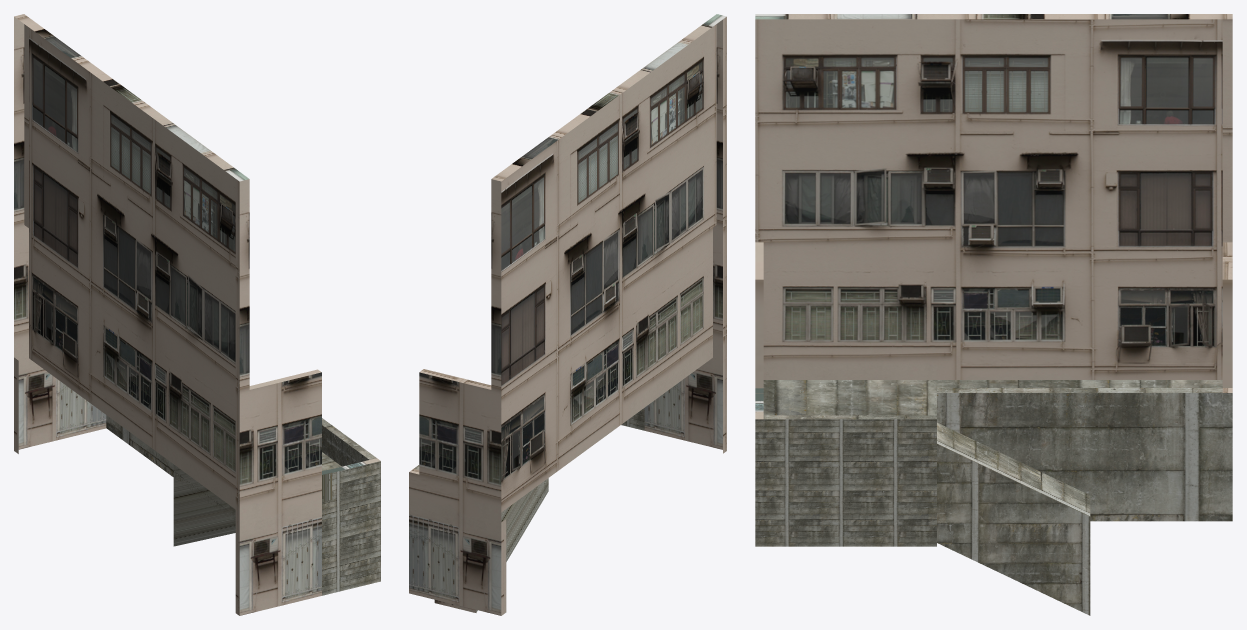
The model's file is BigBuildingNew.fbx.
3 renders of one model, left to right at view 1: azimuth 30°, elevation 25°; view 2: azimuth 150°, elevation 25°; view 3: azimuth 270°, elevation 25°, orthographic. The views are drawn at different scales.
Parts seen in each view (by area): view 1: Cube.001; view 2: Cube.001; view 3: Cube.001.
Boxes of the visible parts, <box> form: Cube.001: <box>14,14,380,615</box>; Cube.001: <box>409,14,726,615</box>; Cube.001: <box>755,14,1232,615</box>.
Bounding box in the file's own units: 169 × 576 × 468.
